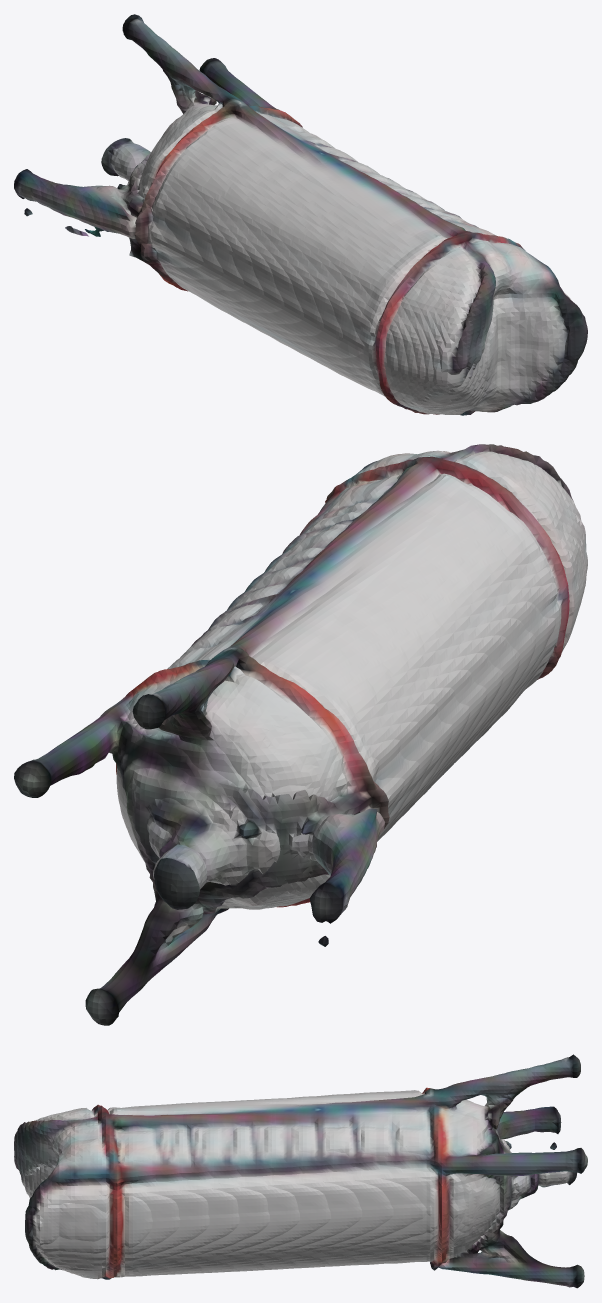
File: triposr_fuel_tank.glb
3 views of the same model, one above another, from view 1: azimuth 30°, elevation 25°; view 2: azimuth 150°, elevation 25°; view 3: azimuth 270°, elevation 25° (orthographic). The views are drawn at different scales.
Parts seen in each view (by area): view 1: geometry_0; view 2: geometry_0; view 3: geometry_0.
Boxes of the visible parts, x1=… form: geometry_0: x1=14, y1=14, x2=587, y2=415; geometry_0: x1=14, y1=444, x2=587, y2=1025; geometry_0: x1=14, y1=1054, x2=587, y2=1288.
Size of the model in its own units: 0.4898 by 0.4242 by 1.01.
